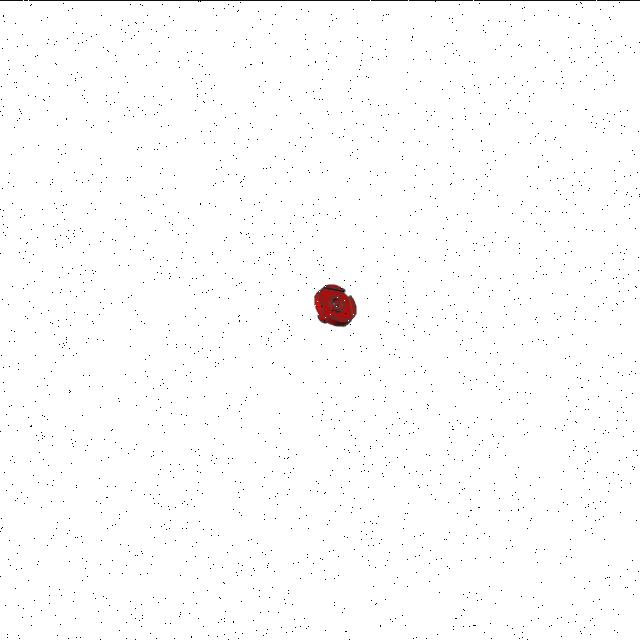4032a: (311, 279, 361, 329)
